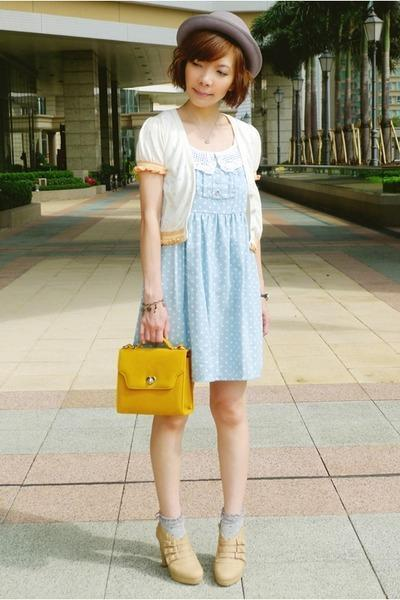bag: (116, 328, 193, 415)
dress: (161, 141, 267, 385)
hat: (176, 1, 270, 77)
jacket: (136, 108, 262, 251)
shoe: (164, 528, 258, 586)
